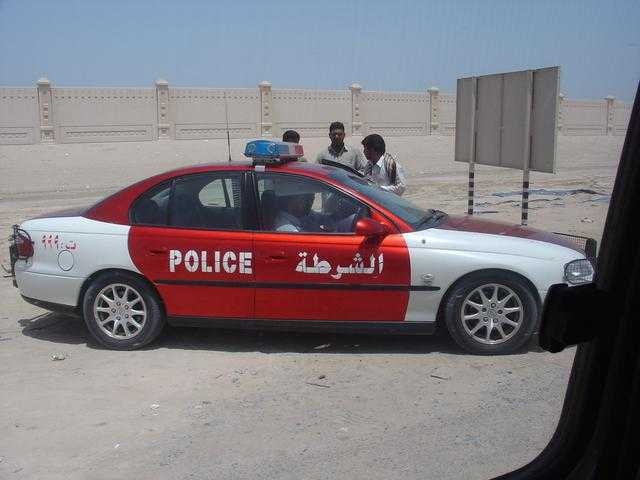Police Car: (8, 143, 616, 365)
